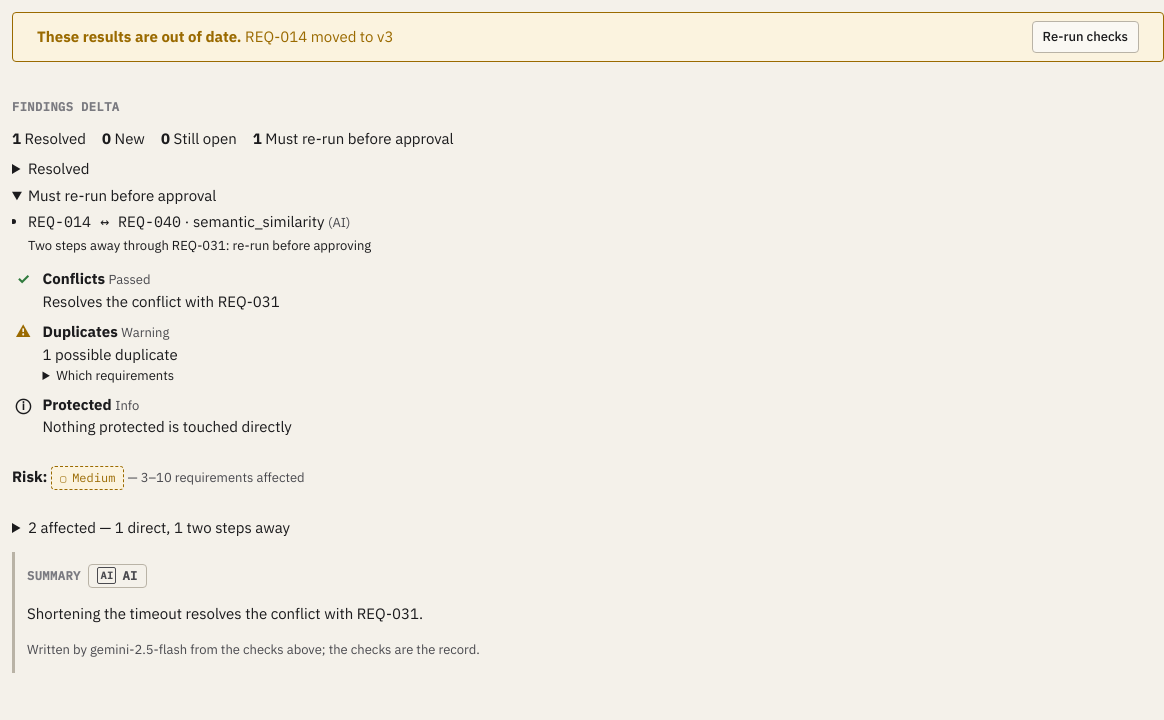
Test: ChecksTab › says when the results are stale and re-runs them
Expected: the text "These results are out of date." is shown, [37, 26, 242, 46]
Expected: the text "These results are out of date. REQ-014 moved to v3" is shown, [37, 26, 393, 48]
Click the button "Re-run checks". click: click(1085, 37)
box: [1032, 21, 1139, 52]
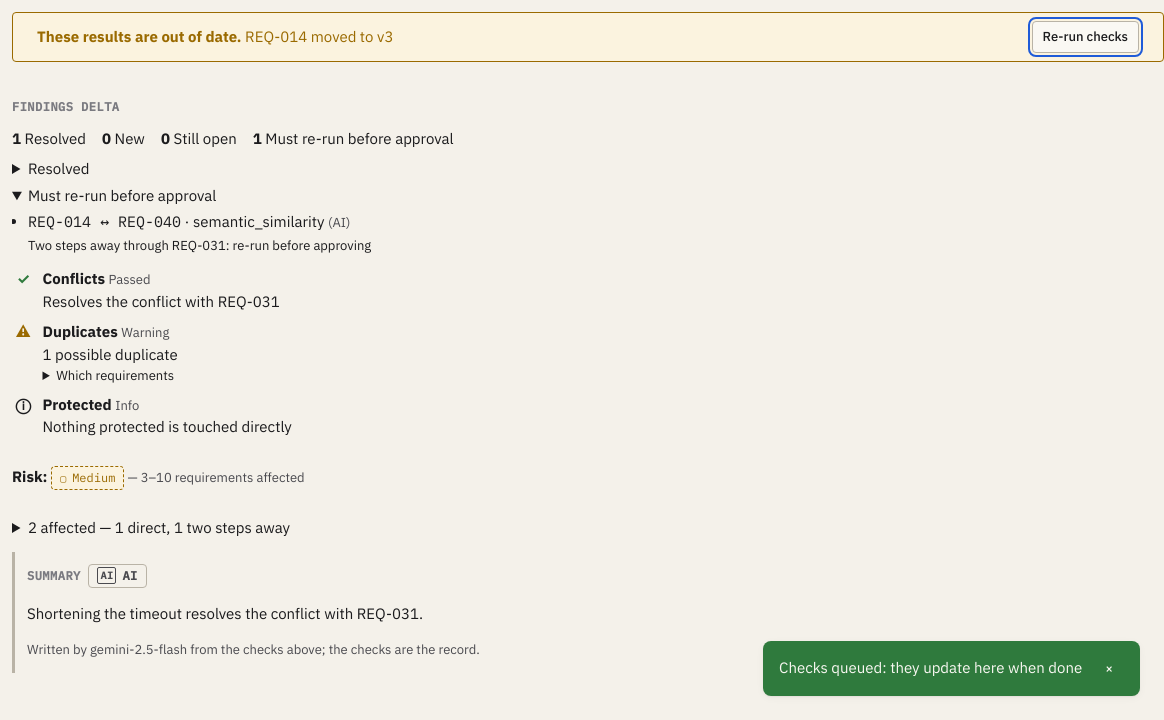
Expected: the text "Checks queued: they update here when done" is shown, [779, 657, 1082, 680]
